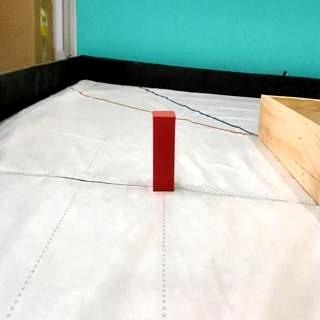redbox: (152, 110, 176, 190)
